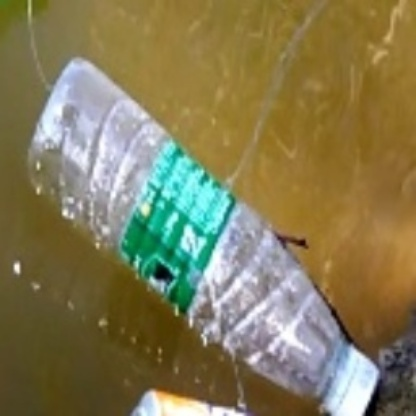bottle: (23, 54, 378, 411)
